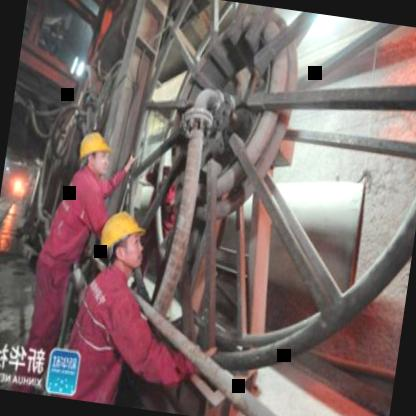helmet: (96, 205, 152, 275), (74, 127, 114, 178)
